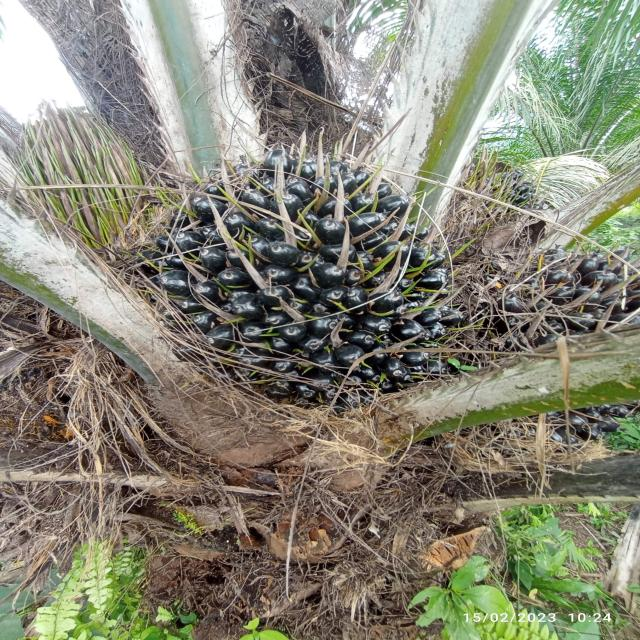fraksi 00: (49, 139, 544, 412)
